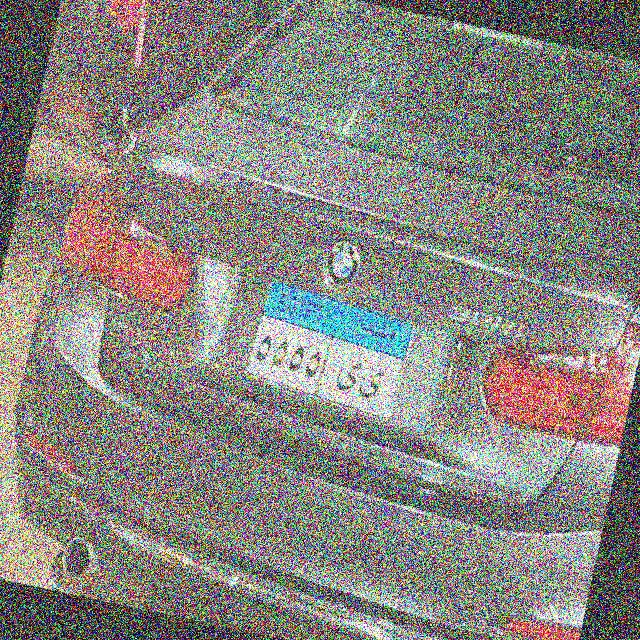License Plate: (239, 275, 421, 428)
